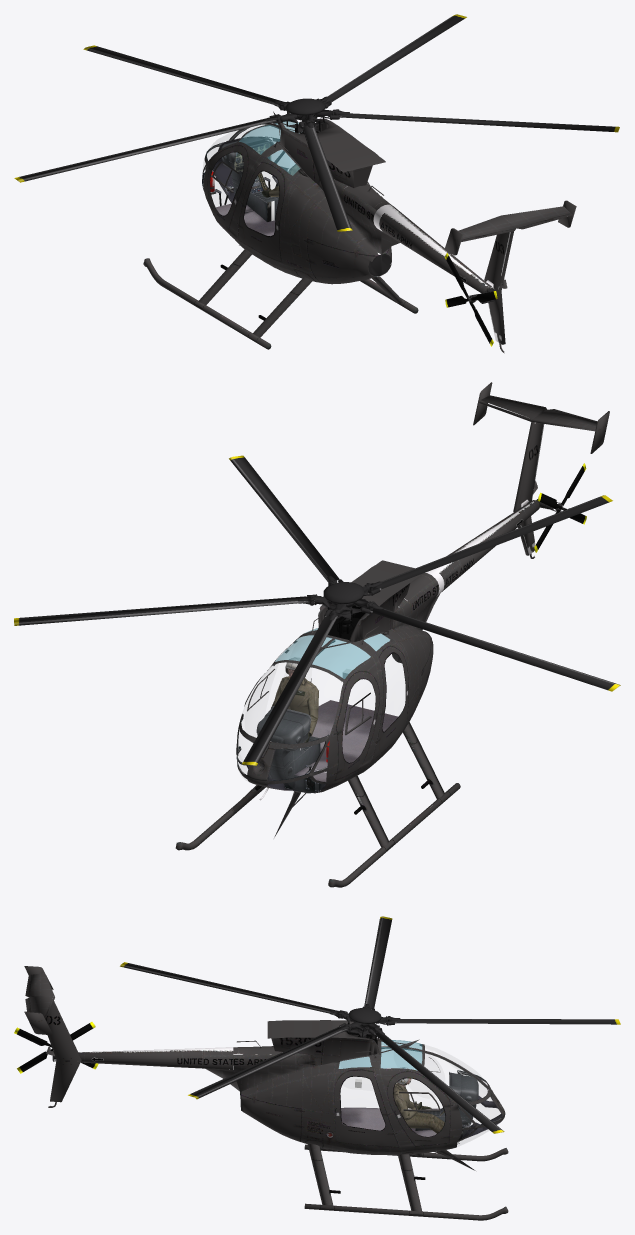
3 renders of one model, top to bottom at view 1: azimuth 30°, elevation 25°; view 2: azimuth 150°, elevation 25°; view 3: azimuth 270°, elevation 25°, orthographic. The views are drawn at different scales.
Visible parts, largest first — view 1: ext_fuselage1, rotor_main, ext_tail, ext_fuselage2, int_console, int_fuselage2, glasss_grn, rotor_tail, glass; view 2: rotor_main, ext_fuselage1, ext_fuselage2, ext_tail, int_fuselage2, int_console, glasss_grn, int_pilotR, glass, rotor_tail; view 3: ext_fuselage1, rotor_main, ext_tail, ext_fuselage2, int_fuselage2, glass, int_pilotR, glasss_grn, int_console, rotor_tail.
Boxes of the visible parts, x1=… form: ext_fuselage1: x1=202, y1=111, x2=391, y2=278; rotor_main: x1=14, y1=14, x2=619, y2=231; ext_tail: x1=344, y1=183, x2=576, y2=353; ext_fuselage2: x1=143, y1=118, x2=418, y2=349; int_console: x1=210, y1=137, x2=278, y2=221; int_fuselage2: x1=202, y1=121, x2=298, y2=236; glasss_grn: x1=239, y1=121, x2=299, y2=175; rotor_tail: x1=444, y1=253, x2=497, y2=346; glass: x1=203, y1=125, x2=275, y2=206; rotor_main: x1=14, y1=455, x2=620, y2=765; ext_fuselage1: x1=244, y1=579, x2=439, y2=837; ext_fuselage2: x1=175, y1=560, x2=460, y2=887; ext_tail: x1=404, y1=382, x2=609, y2=621; int_fuselage2: x1=236, y1=640, x2=397, y2=793; int_console: x1=256, y1=706, x2=329, y2=788; glasss_grn: x1=275, y1=628, x2=389, y2=678; int_pilotR: x1=271, y1=657, x2=318, y2=742; glass: x1=238, y1=664, x2=311, y2=792; rotor_tail: x1=534, y1=463, x2=586, y2=552; ext_fuselage1: x1=233, y1=1027, x2=495, y2=1170; rotor_main: x1=120, y1=916, x2=620, y2=1133; ext_tail: x1=24, y1=966, x2=281, y2=1107; ext_fuselage2: x1=240, y1=1020, x2=508, y2=1220; int_fuselage2: x1=341, y1=1044, x2=502, y2=1144; glass: x1=343, y1=1045, x2=500, y2=1146; int_pilotR: x1=393, y1=1067, x2=463, y2=1138; glasss_grn: x1=338, y1=1040, x2=422, y2=1070; int_console: x1=415, y1=1072, x2=478, y2=1135; rotor_tail: x1=14, y1=1022, x2=98, y2=1073.
Size of the model in its own units: 7.48 by 3.44 by 9.23.
Materials: 9 (9 with a texture image).
